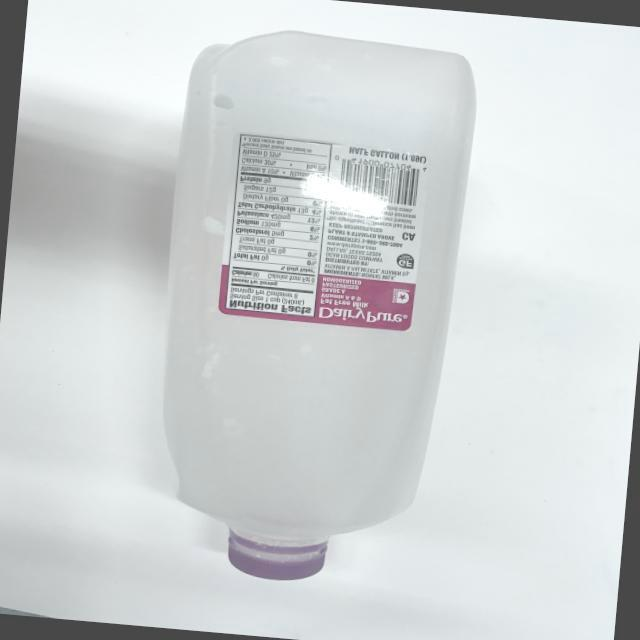plastic: (125, 14, 506, 600)
